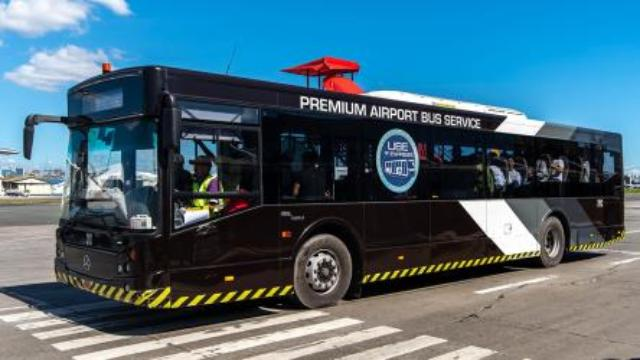bus: (34, 61, 620, 314)
